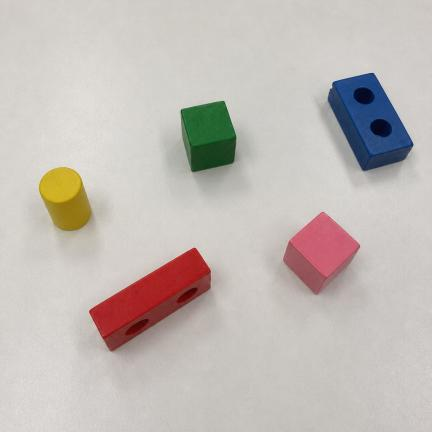BuildingBlocks: (90, 249, 210, 350), (328, 73, 413, 170), (284, 213, 359, 294), (181, 101, 236, 171), (40, 168, 91, 230)
